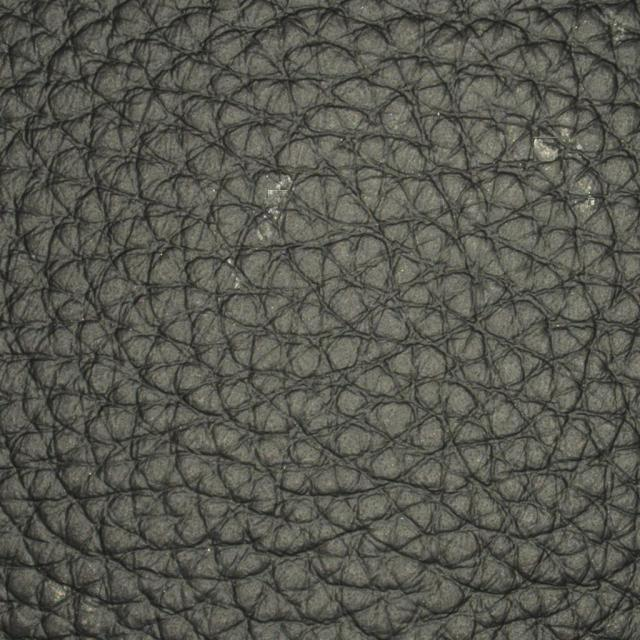Rotten surface: (165, 140, 408, 279), (458, 104, 621, 227)
